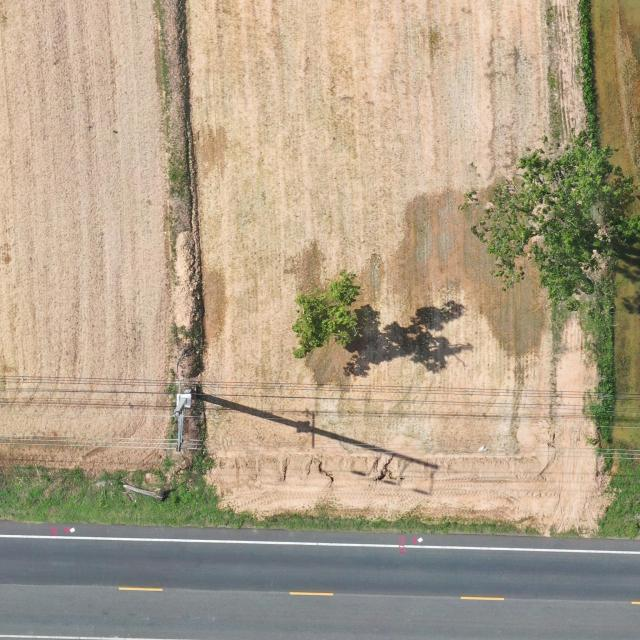tree: (471, 127, 640, 304), (292, 268, 362, 360)
